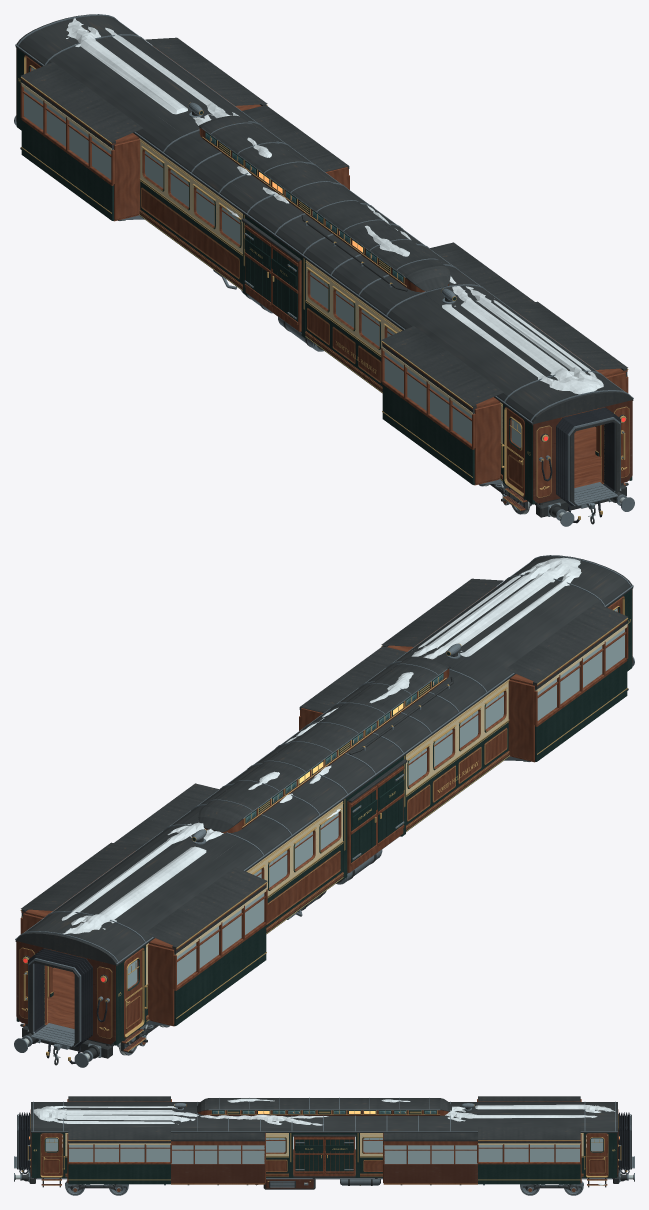
The model's file is Car03.fbx.
3 views of the same model, one above another, from view 1: azimuth 30°, elevation 25°; view 2: azimuth 150°, elevation 25°; view 3: azimuth 270°, elevation 25° (orthographic). The views are drawn at different scales.
Parts seen in each view (by area): view 1: Roof_Structure, Expansion_Linen_Dispatch, Expansion_Artificer'S_Store, Roof_Clerestory, Side_panels_Starboard, Roof_Snow, Gangway_A, Gallery_glass_Starboard, Cabin_windows_Starboard, Window_glass_Starboard, Lamp inspection aisle aft, LoadingDoor_Starboard_A (+7 smaller); view 2: Roof_Structure, Expansion_Artificer'S_Store, Expansion_Linen_Dispatch, Roof_Clerestory, Side_panels_Starboard, Roof_Snow, Gangway_B, Gallery_glass_Starboard, Cabin_windows_Starboard, Window_glass_Starboard, Lamp inspection aisle fore, LoadingDoor_Starboard_B (+7 smaller); view 3: Roof_Structure, Expansion_Artificer'S_Store, Expansion_Linen_Dispatch, Roof_Snow, Roof_Clerestory, Lamp inspection aisle aft, Lamp inspection aisle fore, Dispatch_aisle_glass, Gallery_glass_Port, Side_panels_Port, LoadingDoor_Port_A, LoadingDoor_Port_B (+17 smaller).
Part boxes in pixels (x1,y1,x2,y2): Roof_Structure: (15, 14, 633, 425); Expansion_Linen_Dispatch: (381, 301, 628, 485); Expansion_Artificer'S_Store: (20, 37, 267, 221); Roof_Clerestory: (198, 115, 450, 292); Side_panels_Starboard: (16, 48, 534, 504); Roof_Snow: (66, 18, 603, 394); Gangway_A: (533, 400, 632, 505); Gallery_glass_Starboard: (24, 88, 471, 443); Cabin_windows_Starboard: (140, 142, 399, 354); Window_glass_Starboard: (145, 151, 395, 346); Lamp inspection aisle aft: (242, 105, 349, 189); LoadingDoor_Starboard_A: (271, 244, 301, 331); Roof_Structure: (15, 555, 633, 966); Expansion_Artificer'S_Store: (20, 842, 267, 1026); Expansion_Linen_Dispatch: (381, 578, 628, 762); Roof_Clerestory: (198, 656, 450, 833); Side_panels_Starboard: (114, 589, 632, 1045); Roof_Snow: (61, 557, 581, 934); Gangway_B: (16, 941, 115, 1046); Gallery_glass_Starboard: (177, 629, 624, 984); Cabin_windows_Starboard: (249, 683, 508, 895); Window_glass_Starboard: (253, 692, 503, 887); Lamp inspection aisle fore: (299, 646, 406, 730); LoadingDoor_Starboard_B: (347, 785, 377, 872); Roof_Structure: (31, 1101, 617, 1132); Expansion_Artificer'S_Store: (477, 1096, 581, 1185); Expansion_Linen_Dispatch: (67, 1096, 171, 1185); Roof_Snow: (33, 1098, 615, 1125); Roof_Clerestory: (197, 1097, 451, 1115); Lamp inspection aisle aft: (383, 1132, 477, 1185); Lamp inspection aisle fore: (171, 1132, 265, 1185); Dispatch_aisle_glass: (171, 1145, 477, 1163); Gallery_glass_Port: (69, 1145, 579, 1161); Side_panels_Port: (31, 1133, 617, 1177); LoadingDoor_Port_A: (294, 1136, 324, 1176); LoadingDoor_Port_B: (324, 1136, 354, 1176).
Size of the model in its own units: 4.87 by 4.62 by 29.4.
2 materials, 2 textured.
